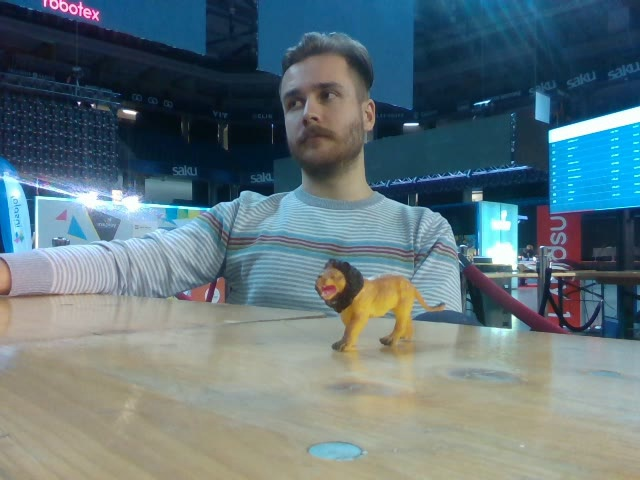toy: (312, 256, 446, 351)
